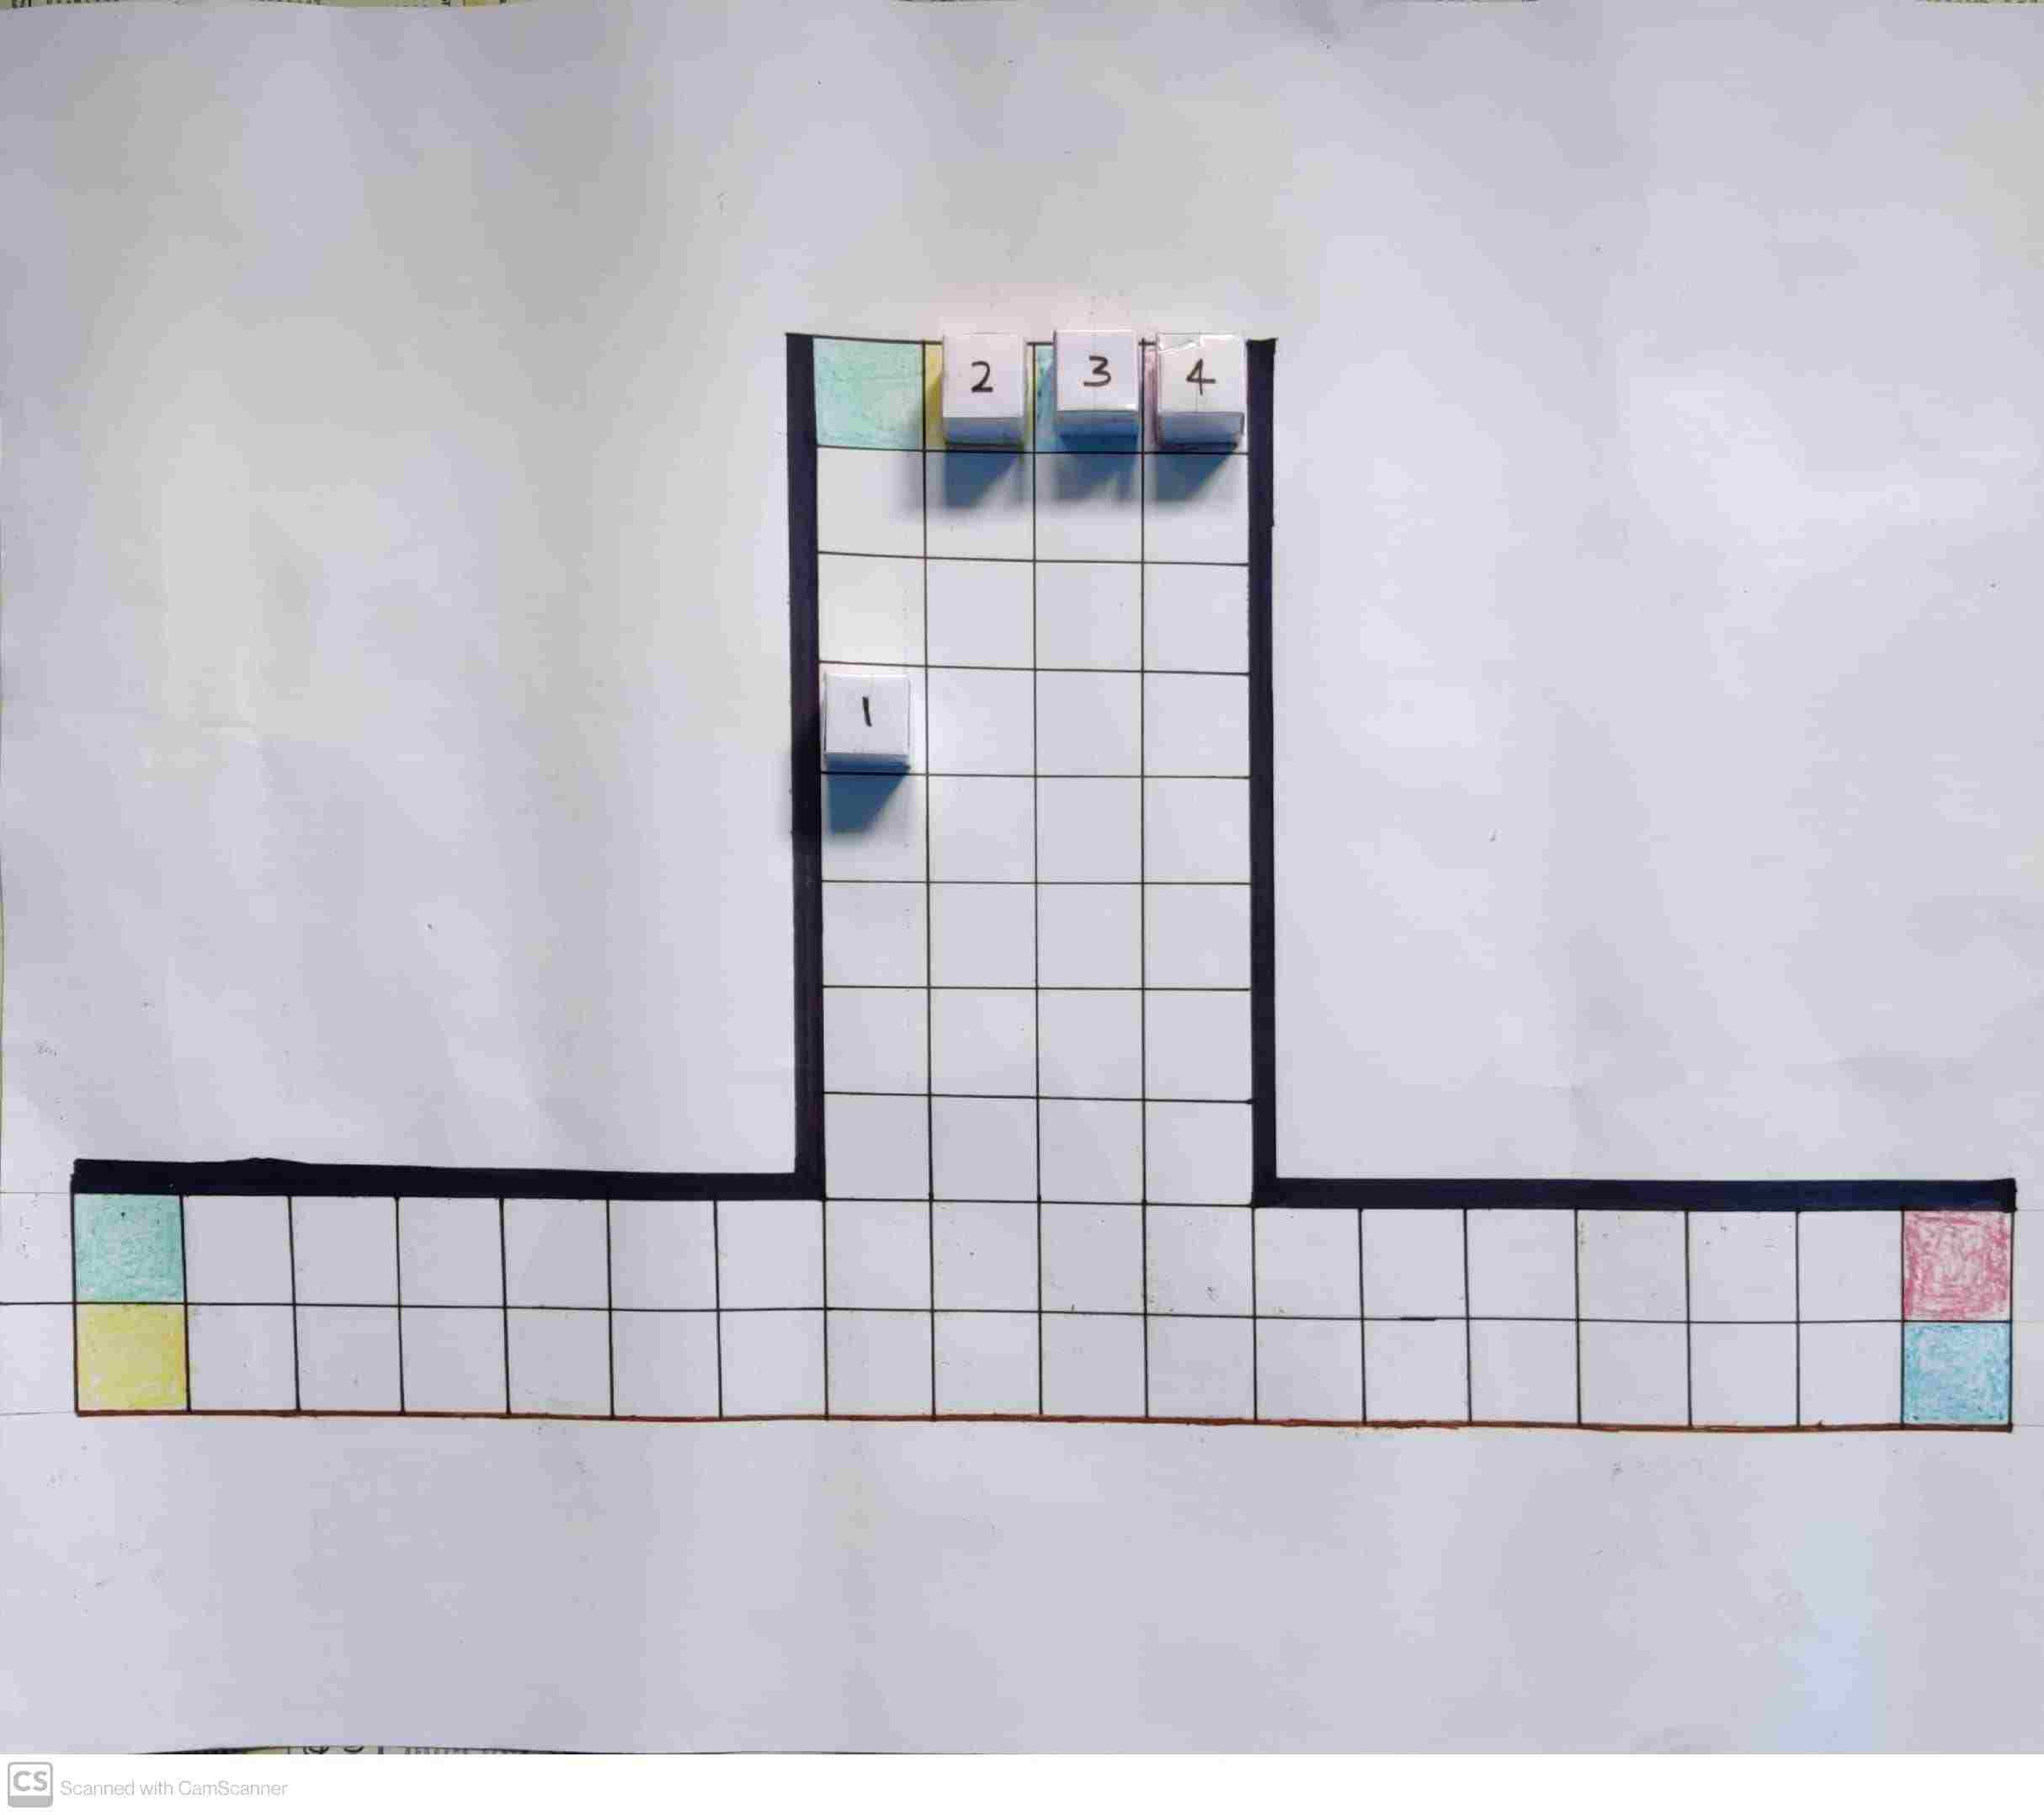arena: (77, 335, 2016, 1430)
bot: (944, 335, 1023, 419), (827, 674, 907, 753), (1159, 335, 1244, 408), (1061, 333, 1137, 413)
